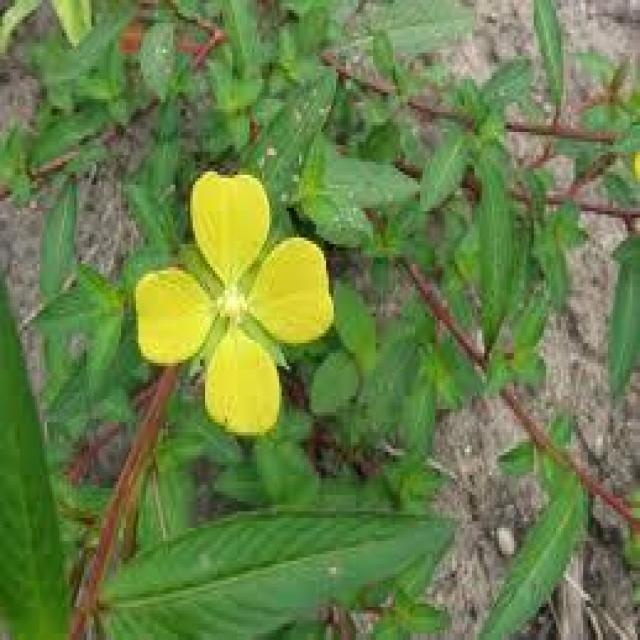organic waste: (131, 165, 331, 435)
